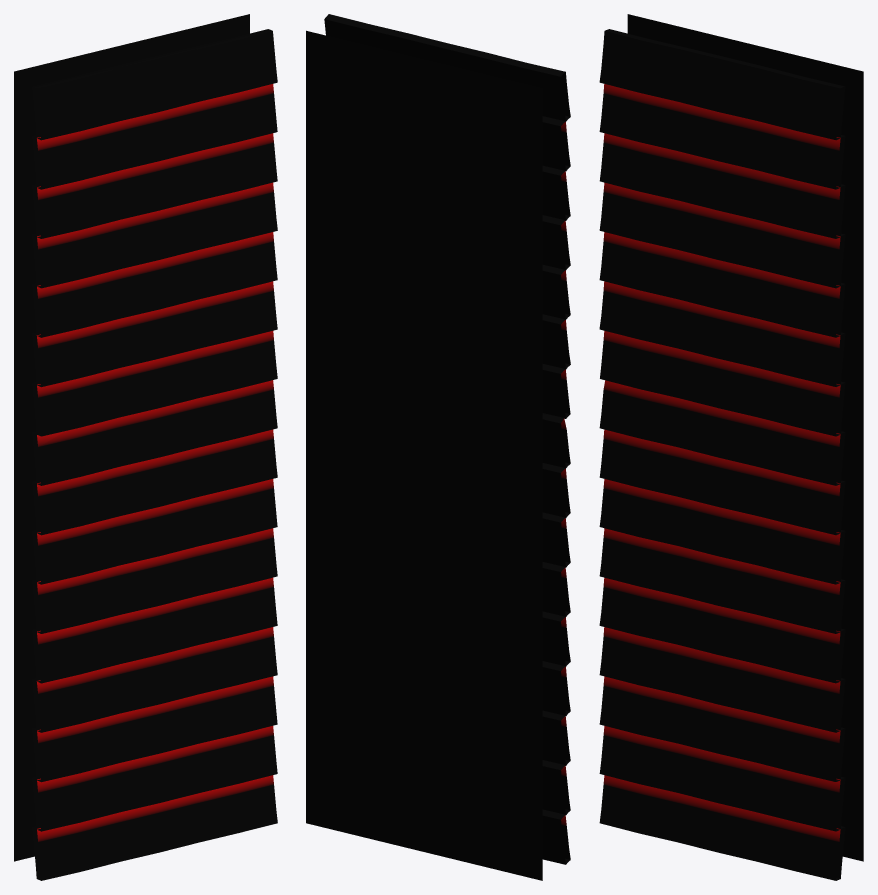
The model's file is SM_House_ExtWall_100CM.fbx.
3 views of the same model, side by side, from view 1: azimuth 30°, elevation 25°; view 2: azimuth 150°, elevation 25°; view 3: azimuth 330°, elevation 25° (orthographic).
Parts seen in each view (by area): view 1: SM_House_ExtWall_100CM; view 2: SM_House_ExtWall_100CM; view 3: SM_House_ExtWall_100CM.
Part boxes in pixels (x1,y1,x2,y2): SM_House_ExtWall_100CM: (14, 14, 277, 880); SM_House_ExtWall_100CM: (306, 14, 570, 880); SM_House_ExtWall_100CM: (599, 14, 863, 880).
Bounding box in the file's own units: 100 × 20.38 × 320.
